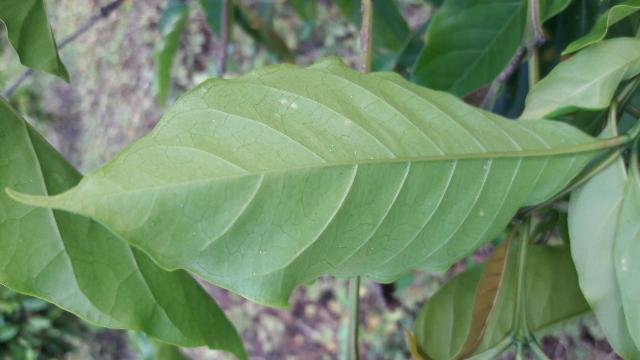healthy: (6, 54, 601, 309)
